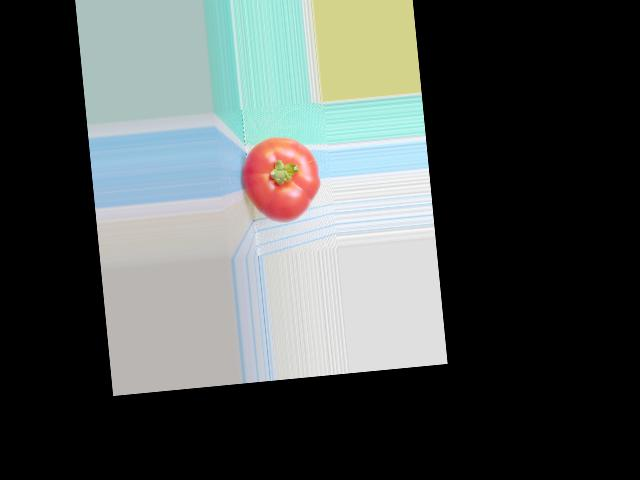tomato: (238, 133, 323, 225)
